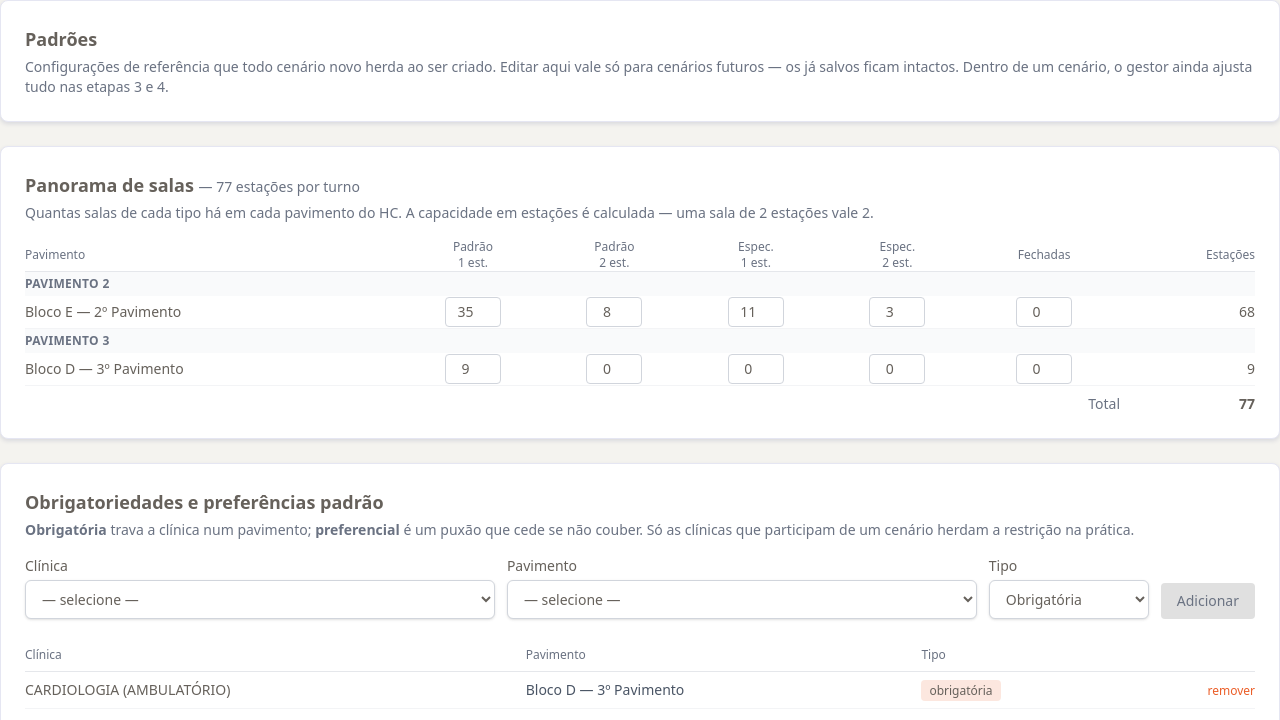
it: SaaPadroes.vue › o botão adicionar fica desabilitado sem clínica e pavimento
This screenshot has width=1280, height=720.
Expected: the button "Adicionar" is disabled, [1161,583,1255,619]
Select "PEDIATRIA (AMBULATÓRIO)" in the 1st dropdown at point(260, 600), box [25,580,495,619]
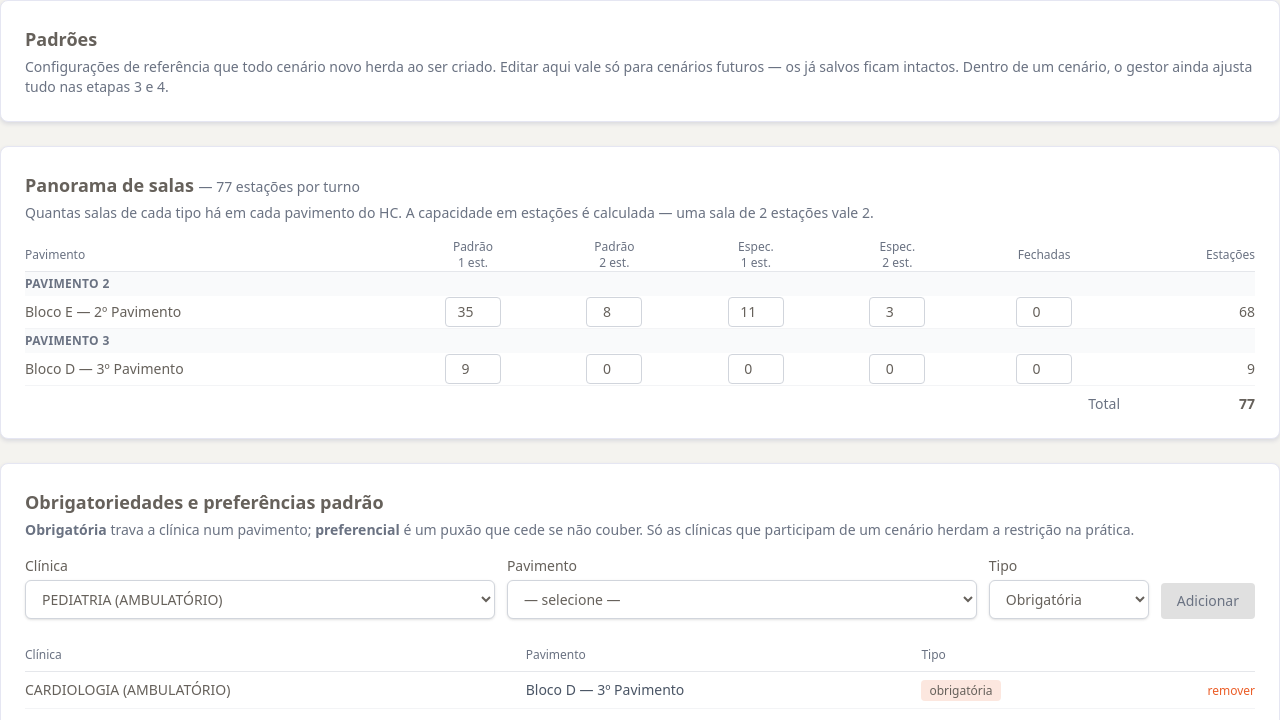
Select "Bloco D — 3º Pavimento" in the 2nd dropdown at point(742, 600), box [507,580,977,619]
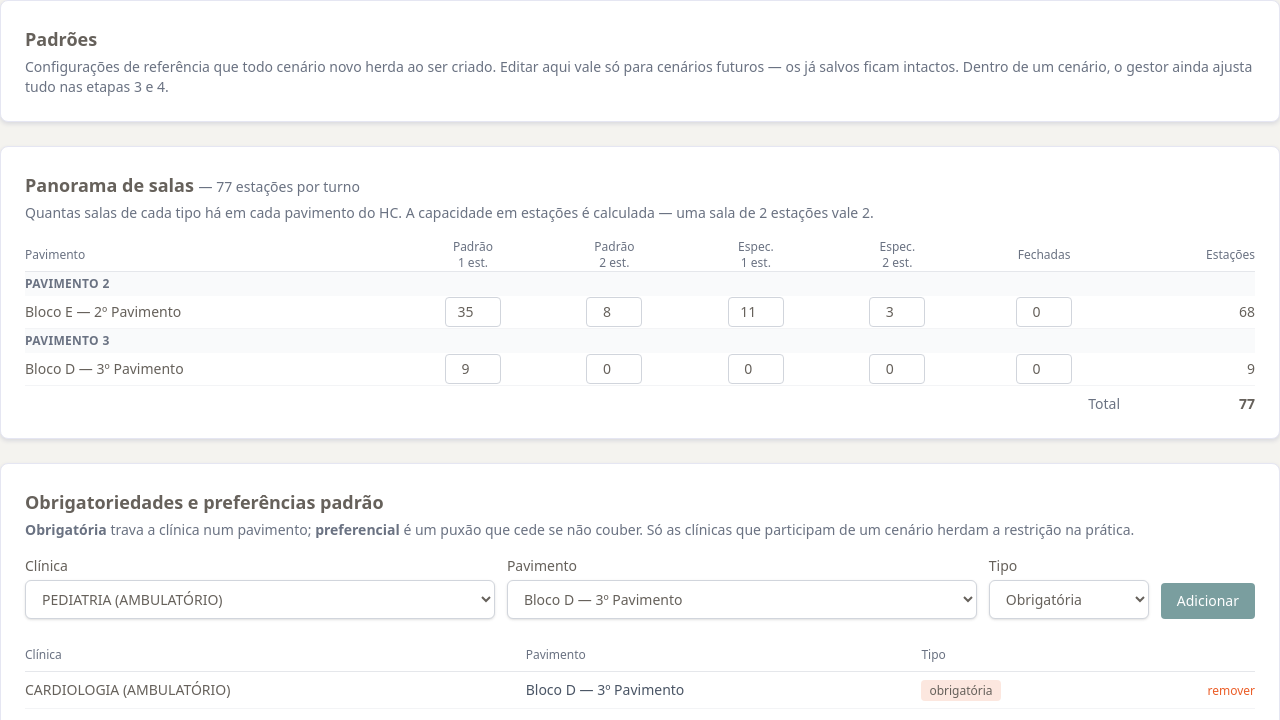
Expected: the button "Adicionar" is enabled, [1161,583,1255,619]
